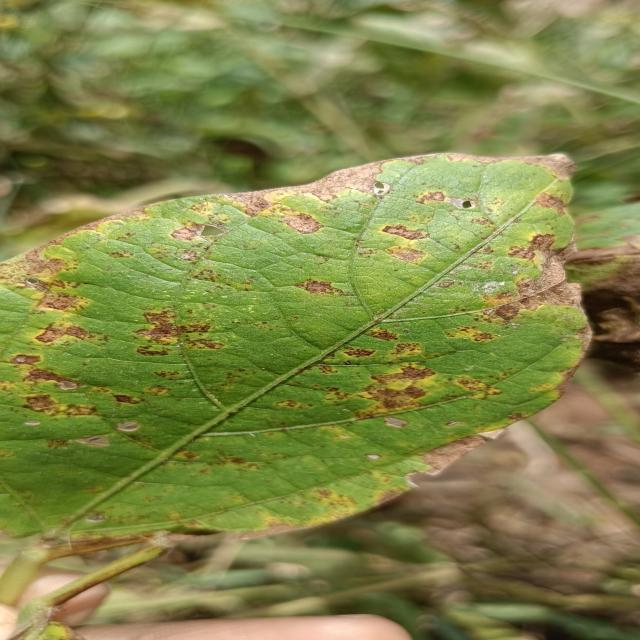Black gram_leaf spot: (0, 142, 610, 552)
